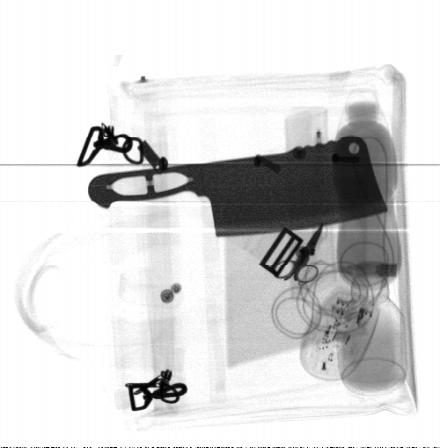Knife: (88, 136, 389, 237)
Scissors: (268, 222, 323, 284)
